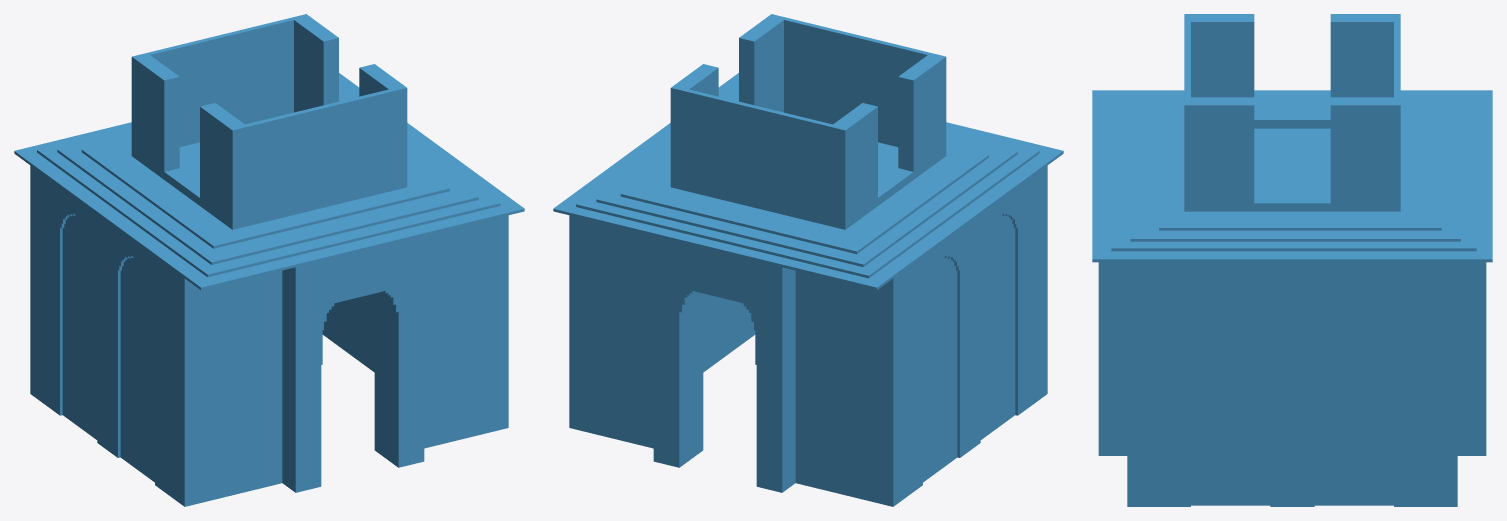
The model's file is Temple.obj.
The picture shows the model from 3 angles, left to right: view 1: azimuth 30°, elevation 25°; view 2: azimuth 150°, elevation 25°; view 3: azimuth 270°, elevation 25°; orthographic projection. The views are drawn at different scales.
Bounding box in the file's own units: 126 × 126 × 126.
1 material, 1 textured.
